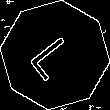L_NE: (26, 27, 84, 83)
